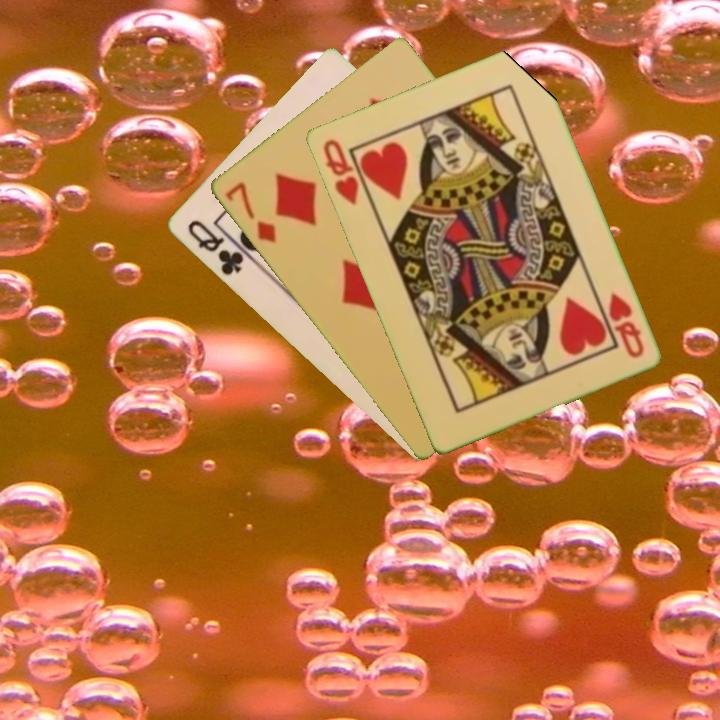7d: (221, 178, 279, 246)
Qc: (183, 216, 255, 279)
Qh: (604, 288, 647, 361), (319, 135, 361, 208)
